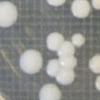white: (18, 49, 43, 76), (0, 1, 18, 30), (38, 83, 62, 100), (70, 0, 91, 19), (55, 67, 77, 85), (45, 32, 63, 51), (56, 41, 74, 58), (60, 53, 78, 70), (46, 58, 61, 78), (88, 53, 100, 74), (71, 33, 84, 48), (44, 0, 67, 8), (91, 0, 100, 12), (94, 75, 100, 92), (0, 92, 9, 100)
